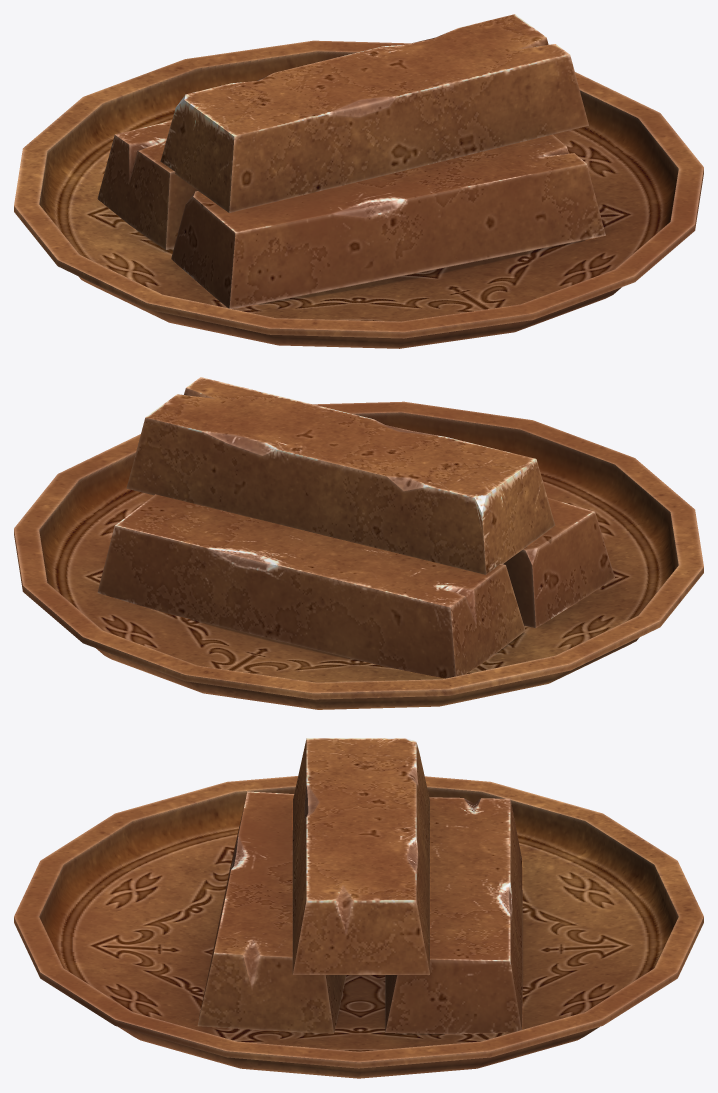
File: DS_WizLab_Clut_ProbesIngot.fbx
3 renders of one model, top to bottom at view 1: azimuth 30°, elevation 25°; view 2: azimuth 150°, elevation 25°; view 3: azimuth 270°, elevation 25°, orthographic.
Visible parts, largest first — view 1: DS_WizLab_Clut_ProbesIngot; view 2: DS_WizLab_Clut_ProbesIngot; view 3: DS_WizLab_Clut_ProbesIngot.
Part boxes in pixels (x1=…): DS_WizLab_Clut_ProbesIngot: x1=14, y1=14, x2=703, y2=348; DS_WizLab_Clut_ProbesIngot: x1=14, y1=377, x2=703, y2=709; DS_WizLab_Clut_ProbesIngot: x1=14, y1=738, x2=703, y2=1078.
Size of the model in its own units: 50.25 by 13.65 by 50.25.
1 material, 1 textured.
